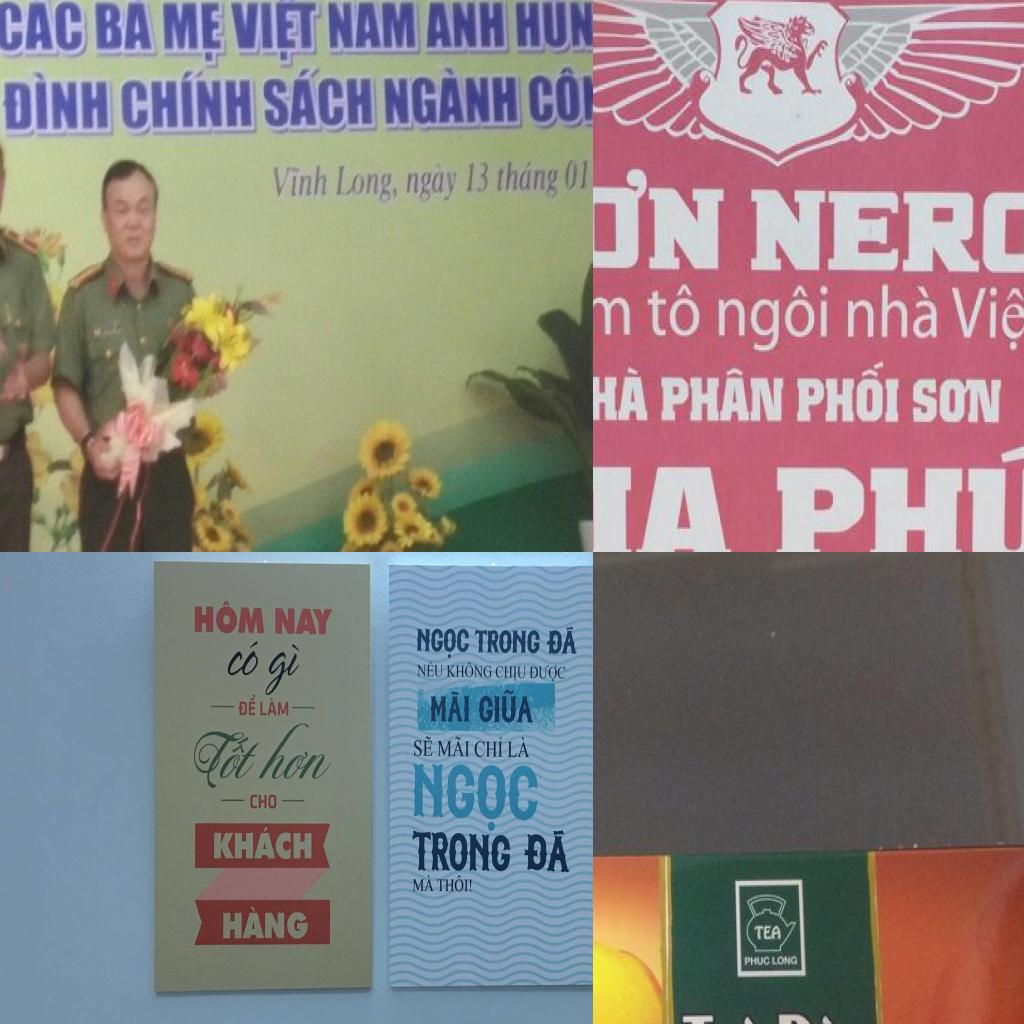text: (773, 439, 1024, 552), (749, 185, 1024, 276), (593, 164, 725, 271), (593, 465, 739, 552), (118, 66, 257, 139), (384, 63, 523, 133), (411, 761, 541, 833), (716, 281, 829, 357), (261, 65, 379, 134), (0, 69, 114, 140), (794, 358, 901, 427), (659, 367, 785, 425), (226, 0, 322, 68), (254, 721, 348, 784), (847, 282, 938, 342), (327, 0, 422, 56), (193, 723, 267, 794), (0, 0, 89, 57), (951, 286, 1024, 353), (424, 0, 511, 56), (912, 375, 1004, 427), (411, 829, 515, 875), (525, 63, 593, 131), (160, 0, 227, 68), (511, 0, 593, 54), (211, 822, 315, 864), (93, 0, 157, 57), (220, 904, 313, 941), (593, 365, 652, 423), (646, 282, 701, 342), (190, 598, 268, 640), (333, 163, 402, 206), (494, 159, 562, 201), (593, 266, 632, 339), (404, 160, 462, 206), (260, 642, 306, 698), (522, 828, 570, 876), (272, 161, 331, 200), (273, 604, 335, 640), (476, 688, 534, 724), (473, 626, 541, 656), (415, 626, 471, 660), (772, 1008, 869, 1024), (430, 690, 472, 726), (680, 1008, 768, 1024), (225, 642, 263, 679), (544, 624, 578, 658), (562, 157, 592, 193), (446, 660, 494, 680), (465, 160, 491, 196), (436, 874, 474, 895), (258, 696, 294, 718), (474, 734, 504, 760), (530, 662, 568, 682), (437, 736, 471, 758), (754, 924, 783, 945), (250, 791, 278, 812), (495, 664, 527, 682), (506, 736, 530, 760), (235, 693, 257, 718), (412, 734, 434, 758), (411, 873, 435, 894), (416, 660, 443, 678), (770, 954, 799, 969), (744, 954, 771, 969)
